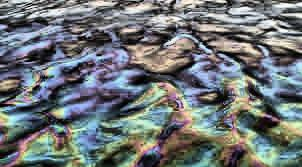rainbow: (0, 1, 302, 166)
